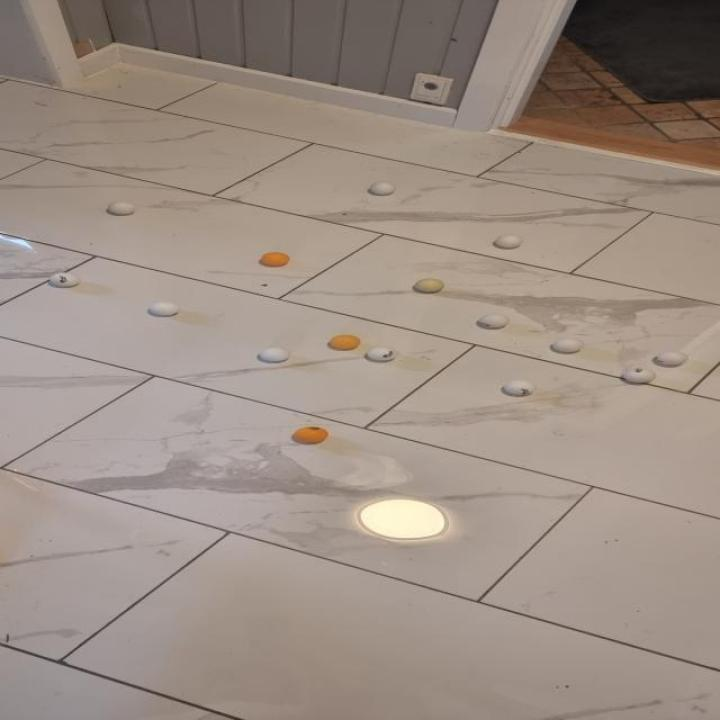orange: (294, 426, 329, 442), (329, 334, 362, 349), (260, 252, 289, 266)
white: (259, 346, 291, 362), (656, 350, 688, 366), (48, 272, 82, 287), (553, 338, 584, 354), (478, 313, 510, 328), (506, 380, 537, 395), (414, 278, 446, 292), (367, 346, 399, 360), (624, 368, 656, 382), (150, 302, 181, 316), (368, 181, 397, 195), (108, 201, 136, 214), (495, 235, 523, 248)
